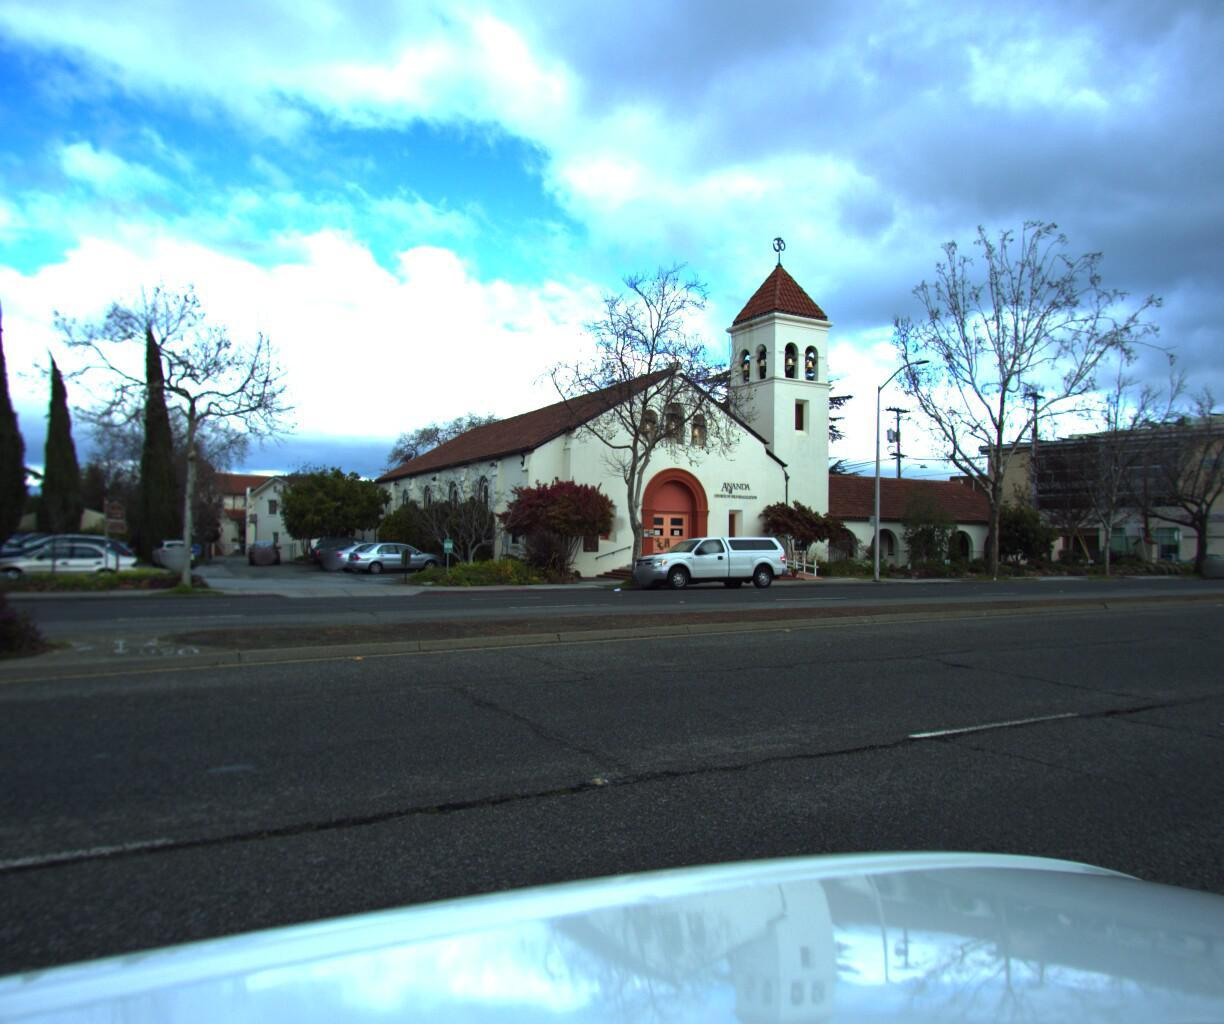car: (615, 530, 790, 595), (0, 540, 146, 597), (0, 533, 137, 589), (1195, 539, 1224, 575)
